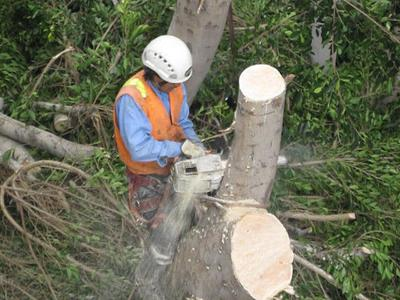person: (111, 36, 214, 243)
